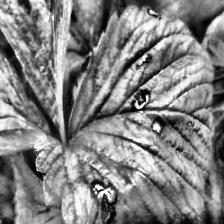Leaf Spot: (32, 4, 214, 224), (0, 0, 52, 189), (199, 0, 224, 142)
